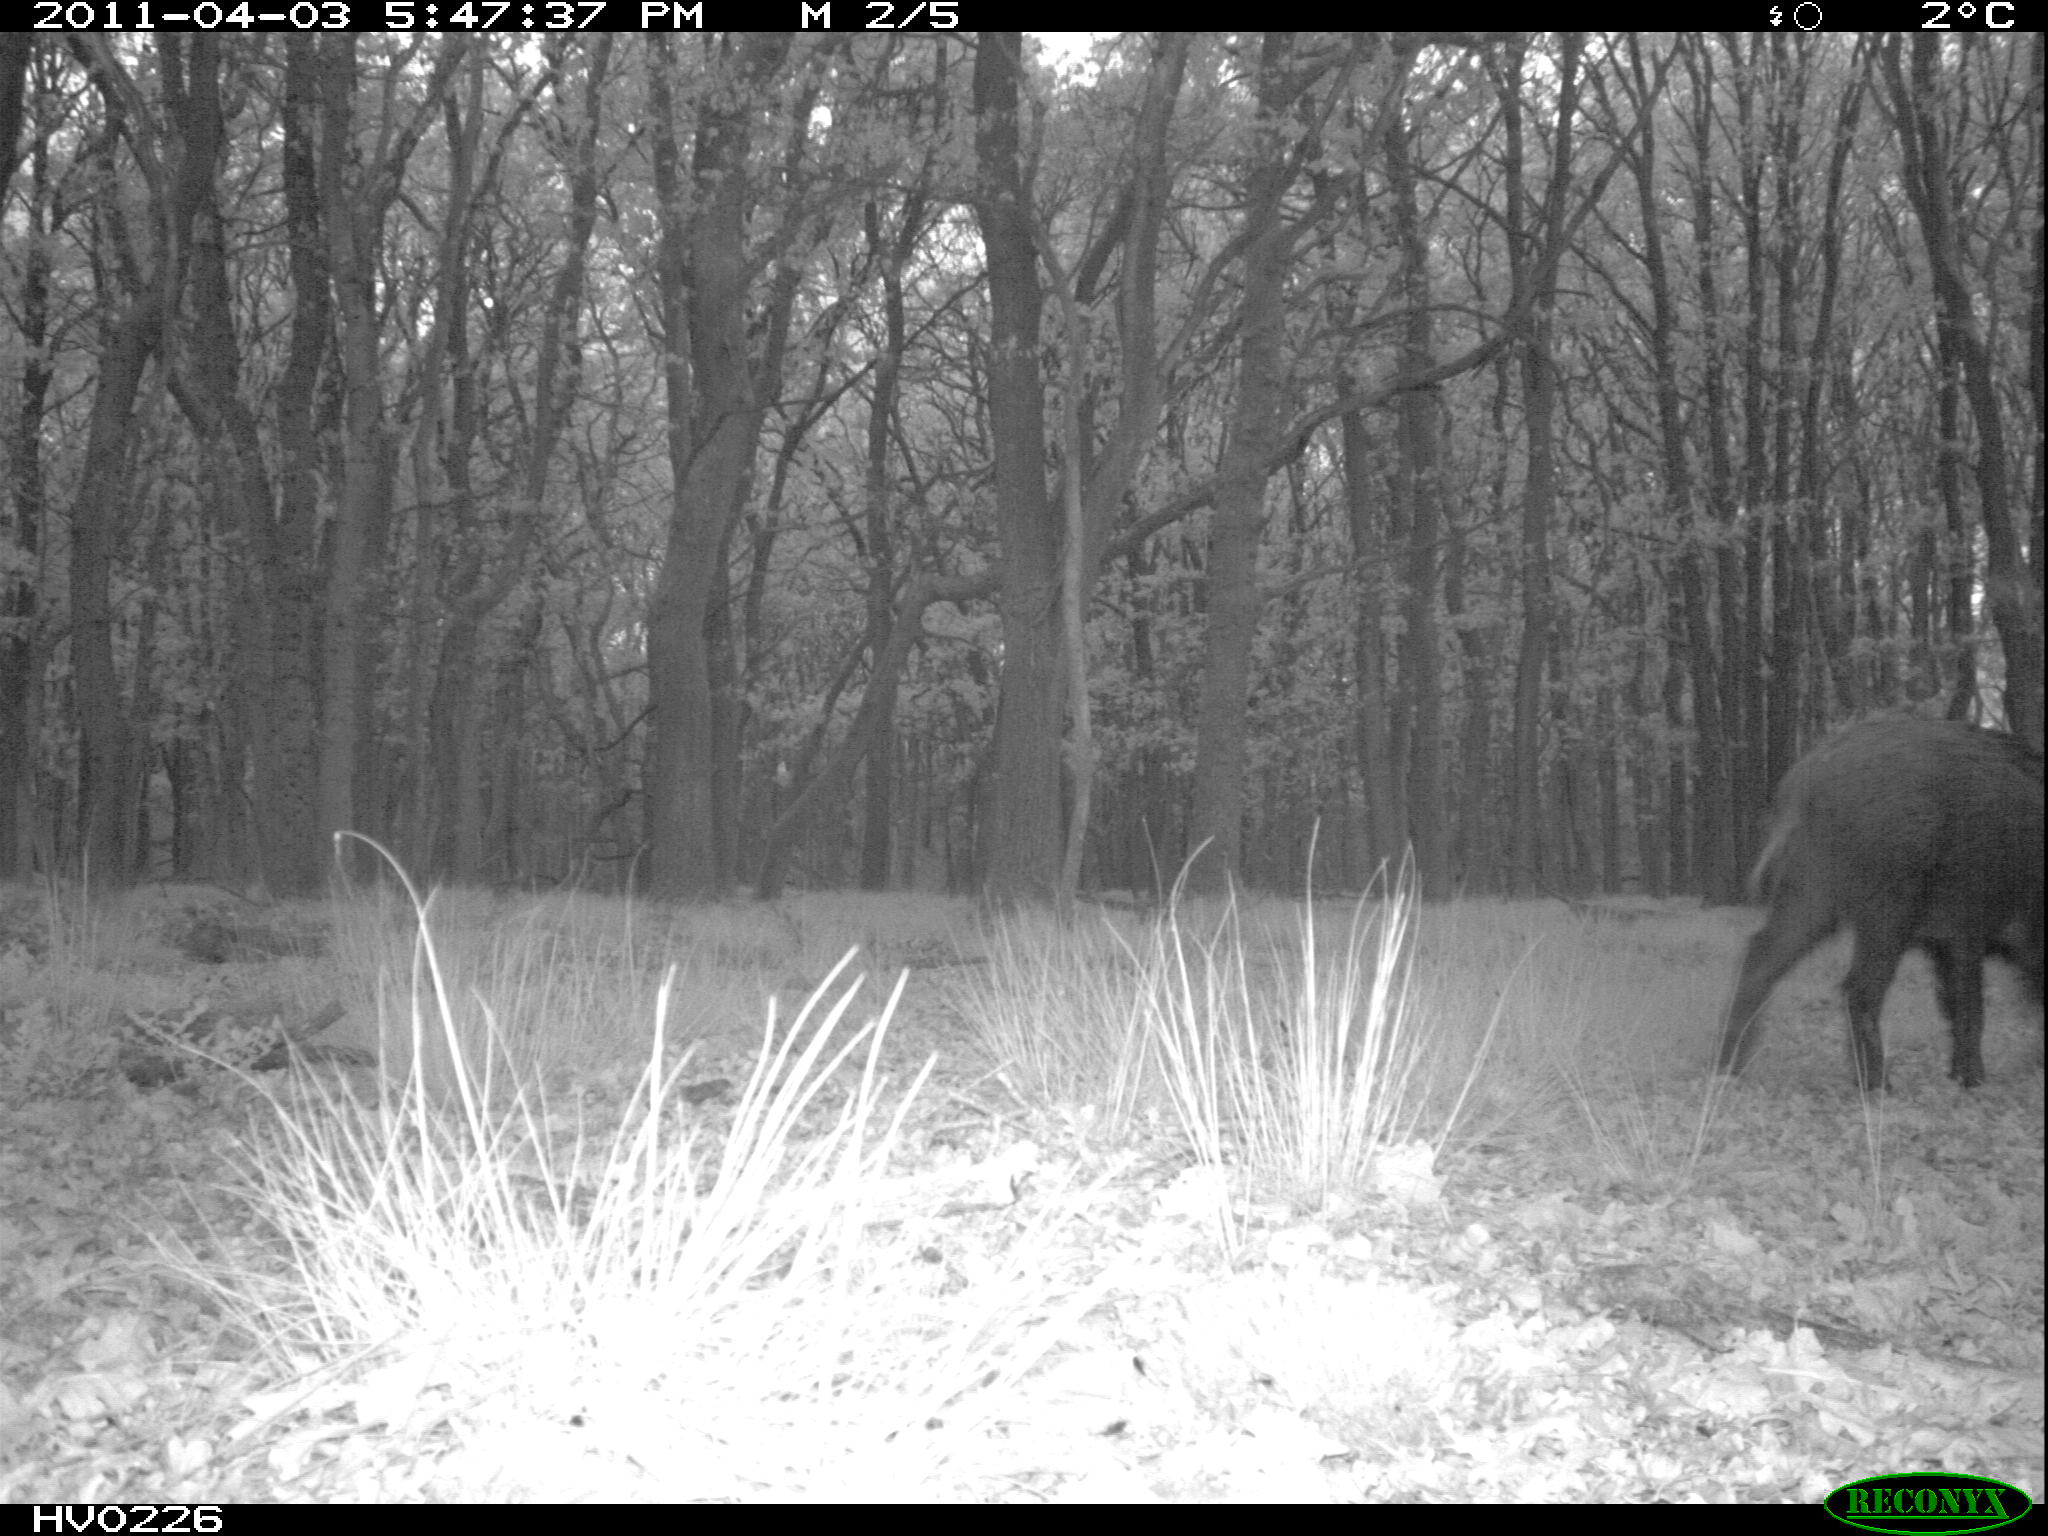Pig: (1705, 702, 2043, 1105)
